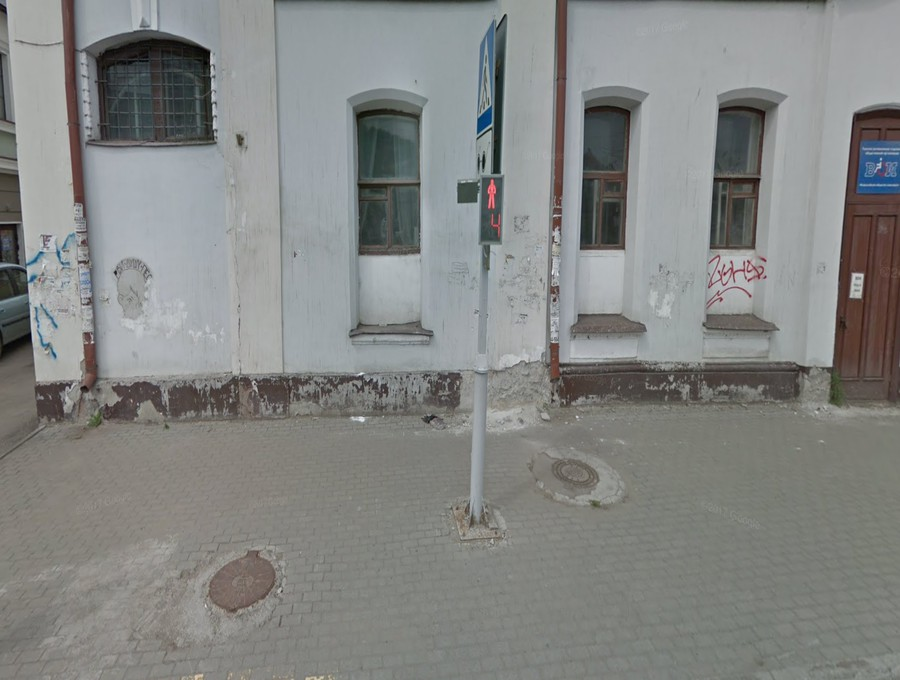Traffic Light-red: (481, 171, 506, 248)
